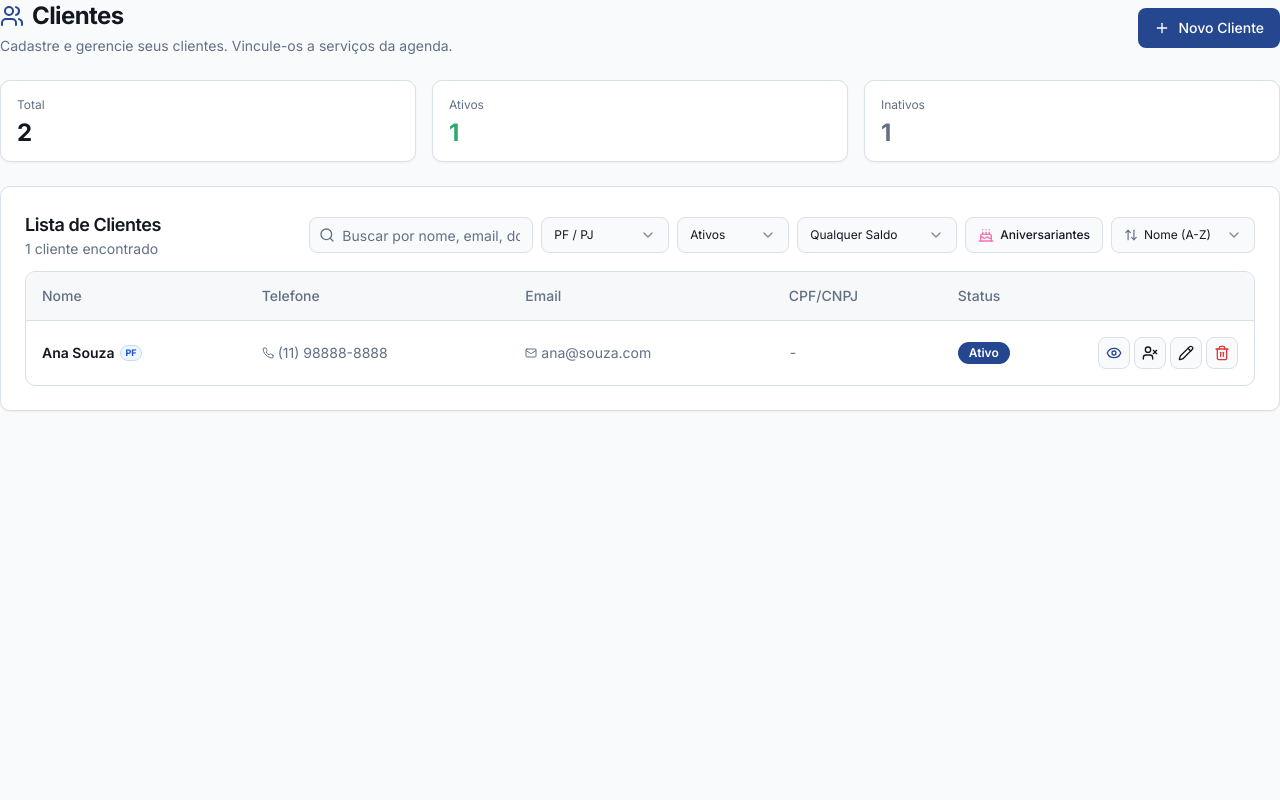
it: Customers CRM Component › deve exibir erros de validação no formulário ao tentar cadastrar cliente vazio
The image size is (1280, 800).
Expected: the text "Ana Souza" is shown, 42,342 -> 114,362
Click the button "Novo Cliente" at (1209, 28), box 1138,8 -> 1279,48
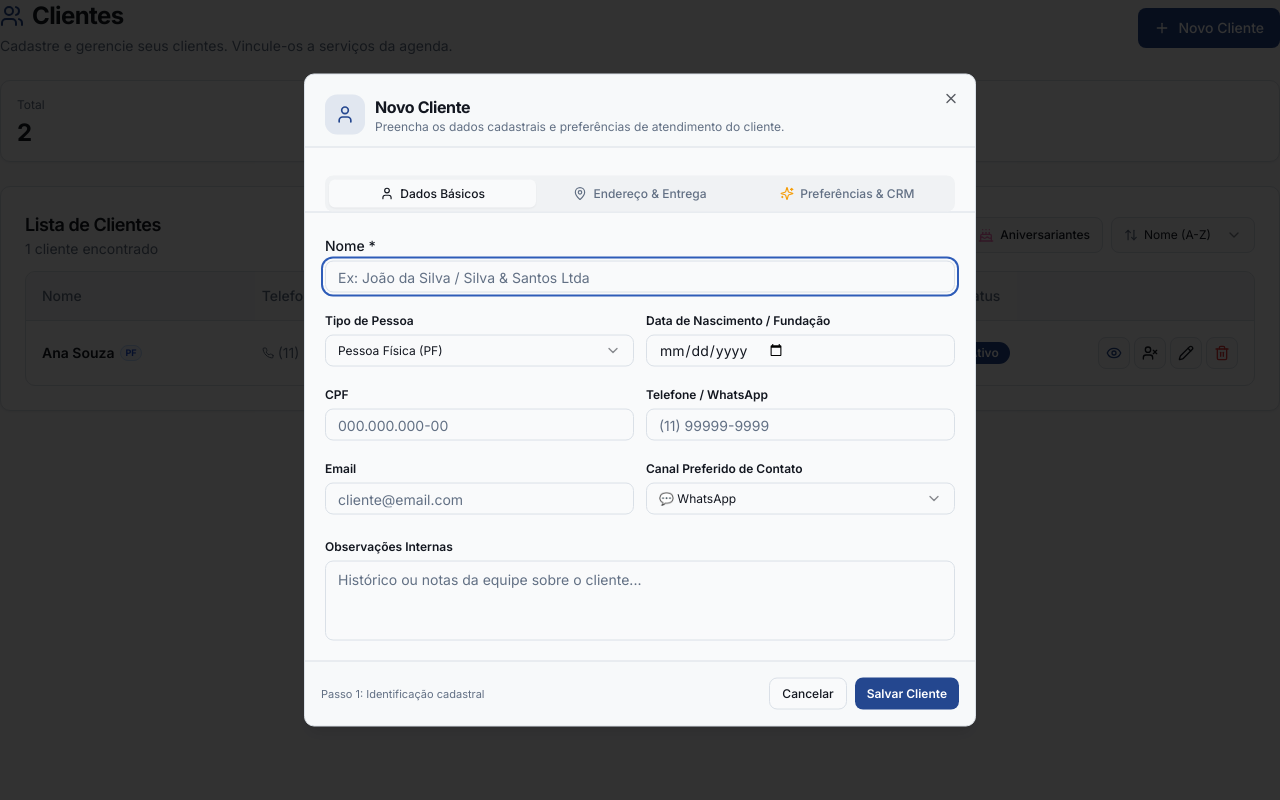
# Clicar em Salvar sem preencher nada
Click the button "Salvar Cliente" at (907, 694), box 855,678 -> 959,710
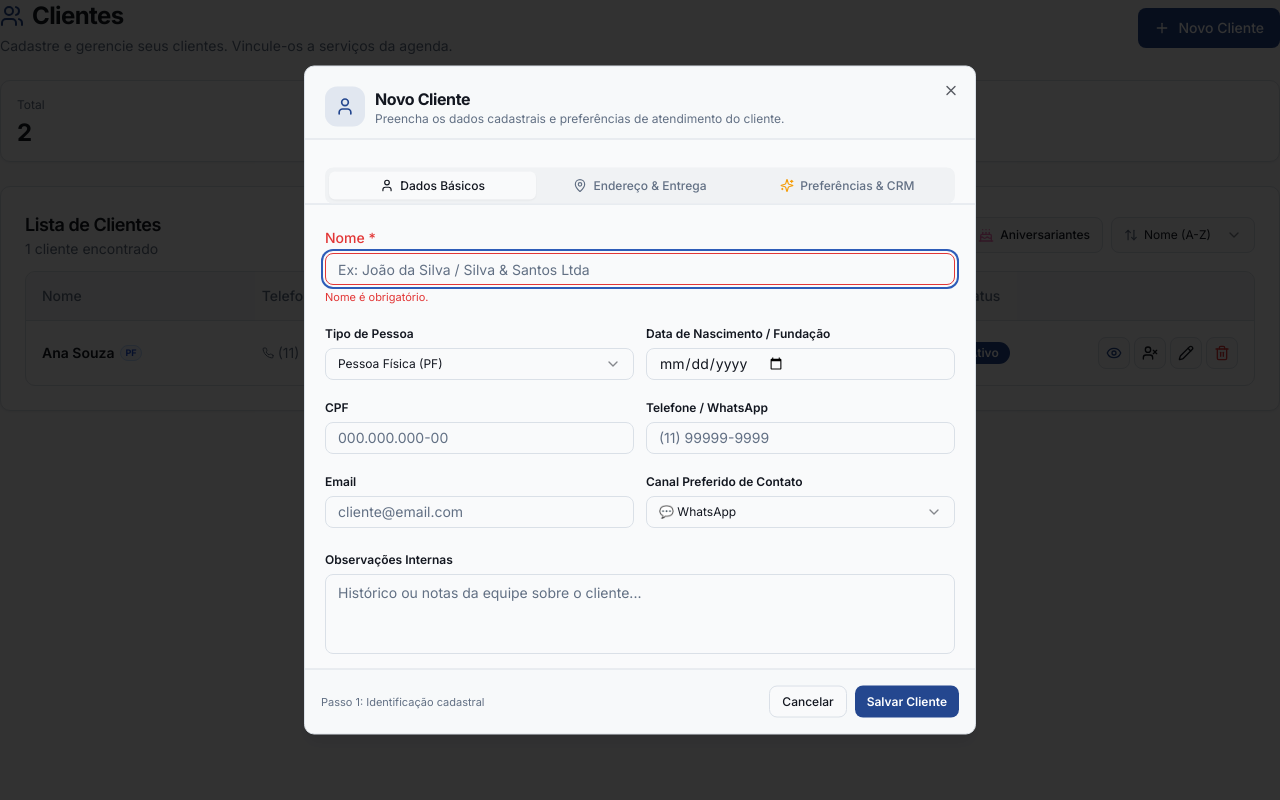
Result: the text "Nome é obrigatório." is shown at 325,290 -> 428,304
